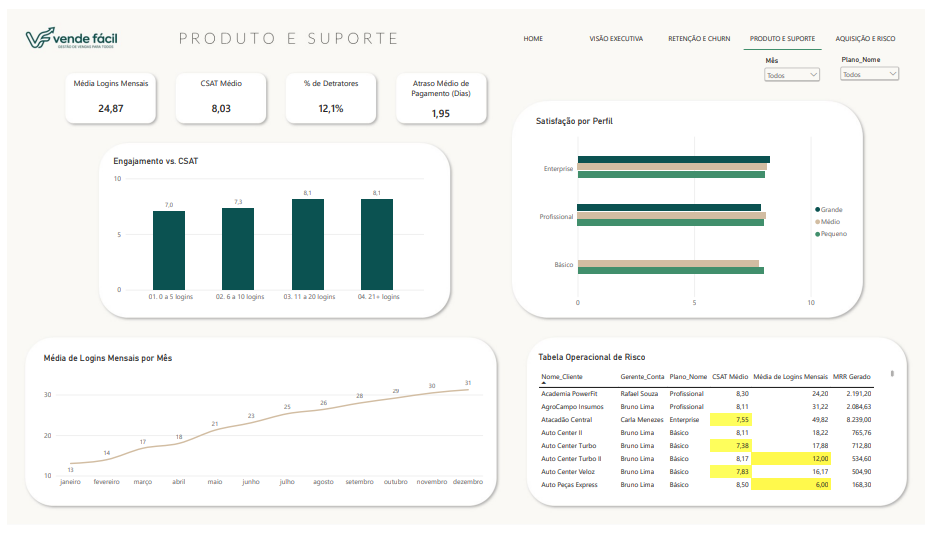

What the dashboard file says about the page in this screenshot:
{"tool":"powerbi","page":{"name":"PRODUTO E SUPORTE","canvas":[1920,1080],"ordinal":3},"visuals":[{"type":"slicer","fields":{"Values":["Dados_Brutos.Data_Referencia.Variation.Hierarquia de datas.Mês"]},"box":[1579.9,100.5,126,77.3],"z":0},{"type":"slicer","fields":{"Values":["dim_plano1.Plano_Nome"]},"box":[1738.5,99.2,133.2,77.3],"z":1000},{"type":"pageNavigator","box":[1017.7,36.8,866.2,50.1],"z":2000},{"type":"cardVisual","title":"Média Logins Mensais","fields":{"Data":["Dados_Brutos.Média de Logins Mensais"]},"box":[126.7,145,180,86.7],"z":3000},{"type":"cardVisual","title":"CSAT Médio","fields":{"Data":["Dados_Brutos.CSAT Médio"]},"box":[358.3,145,180,86.7],"z":4000},{"type":"cardVisual","title":"% de Detratores","fields":{"Data":["Dados_Brutos.% de Detratores"]},"box":[588.3,145,180,86.7],"z":5000},{"type":"cardVisual","title":"Atraso Médio de Pagamento (Dias)","fields":{"Data":["Dados_Brutos.Atraso Médio de Pagamento (Dias)"]},"box":[818.3,145,180,86.7],"z":6000},{"type":"lineChart","fields":{"Category":["Dados_Brutos.Data_Referencia.Variation.Hierarquia de datas.Mês"],"Y":["Dados_Brutos.Média de Logins Mensais"]},"box":[60.3,705.8,956.9,316.5],"z":7000},{"type":"tableEx","title":"Tabela Operacional de Risco","fields":{"Values":["dim_cliente2.Nome_Cliente","dim_cliente2.Gerente_Conta","dim_plano1.Plano_Nome","Dados_Brutos.CSAT Médio","Dados_Brutos.Média de Logins Mensais","Dados_Brutos.MRR Gerado"]},"box":[1095.8,705.1,777.1,316.8],"z":8000},{"type":"clusteredBarChart","title":"Satisfação por Perfil","fields":{"Category":["Dados_Brutos.Nome_Plano"],"Series":["dim_cliente2.Porte"],"Y":["Dados_Brutos.CSAT Médio"]},"box":[1090.7,209.6,692.2,436],"z":9000},{"type":"clusteredColumnChart","title":"Engajamento vs. CSAT","fields":{"Category":["Dados_Brutos.Faixa_Logins"],"Y":["Dados_Brutos.CSAT Médio"]},"box":[206.4,294.5,681.5,338.5],"z":10000}]}

Visuals, with their boxes in screenshot pixels (x1, y1, x2, y2), scaled from the page's 1920x1080 canvas onto the 934x533 screenshot:
slicer - Dados_Brutos.Data_Referencia.Variation.Hierarquia de datas.Mês: bbox(769, 50, 830, 88)
slicer - dim_plano1.Plano_Nome: bbox(846, 49, 911, 87)
pageNavigator: bbox(495, 18, 916, 43)
"Média Logins Mensais" cardVisual: bbox(62, 72, 149, 114)
"CSAT Médio" cardVisual: bbox(174, 72, 262, 114)
"% de Detratores" cardVisual: bbox(286, 72, 374, 114)
"Atraso Médio de Pagamento (Dias)" cardVisual: bbox(398, 72, 486, 114)
lineChart - Dados_Brutos.Data_Referencia.Variation.Hierarquia de datas.Mês x Dados_Brutos.Média de Logins Mensais: bbox(29, 348, 495, 505)
"Tabela Operacional de Risco" tableEx: bbox(533, 348, 911, 504)
"Satisfação por Perfil" clusteredBarChart: bbox(531, 103, 867, 319)
"Engajamento vs. CSAT" clusteredColumnChart: bbox(100, 145, 432, 312)
